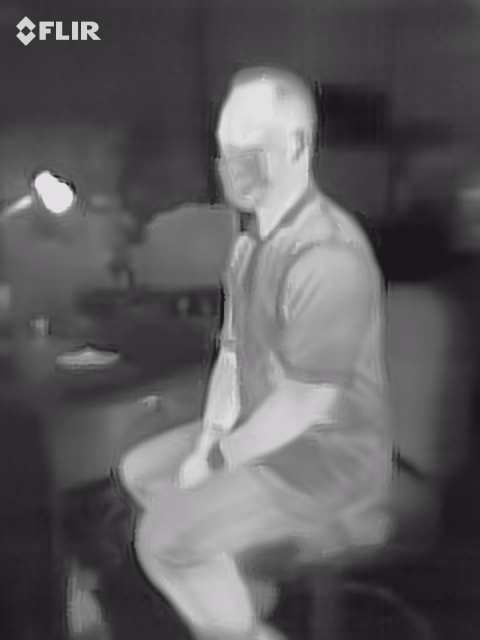head: (211, 65, 318, 213)
